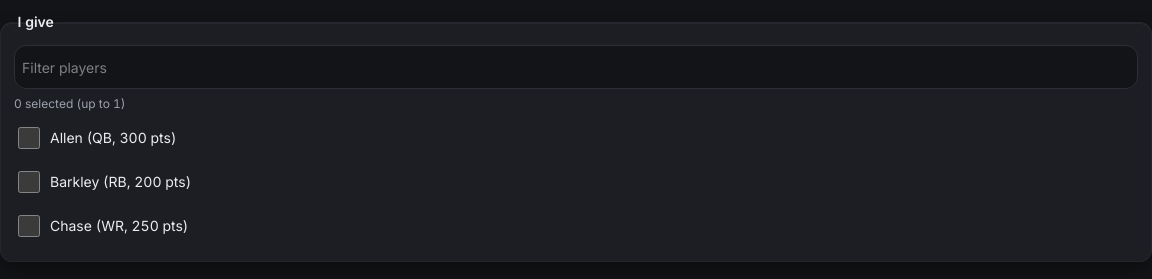
Test: MultiSelect › disables unchecked boxes at the cap
The width and height of the screenshot is (1152, 279).
Click the checkbox labelled "Allen (QB, 300 pts)" at (28, 138), box [18,126,40,148]
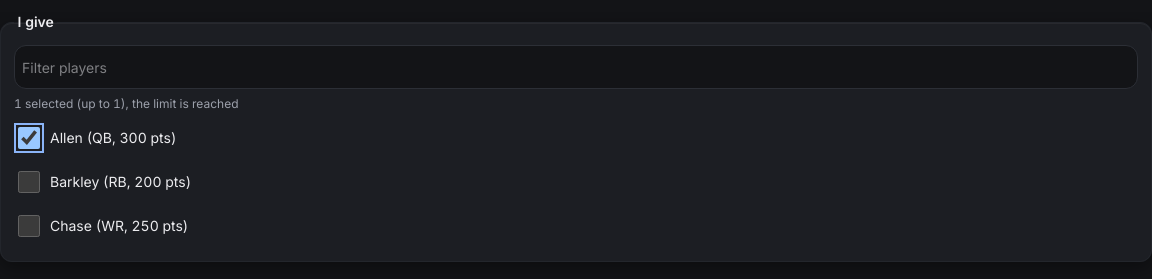
Now the checkbox labelled "Barkley (RB, 200 pts)" is disabled, box [18,170,40,192]
